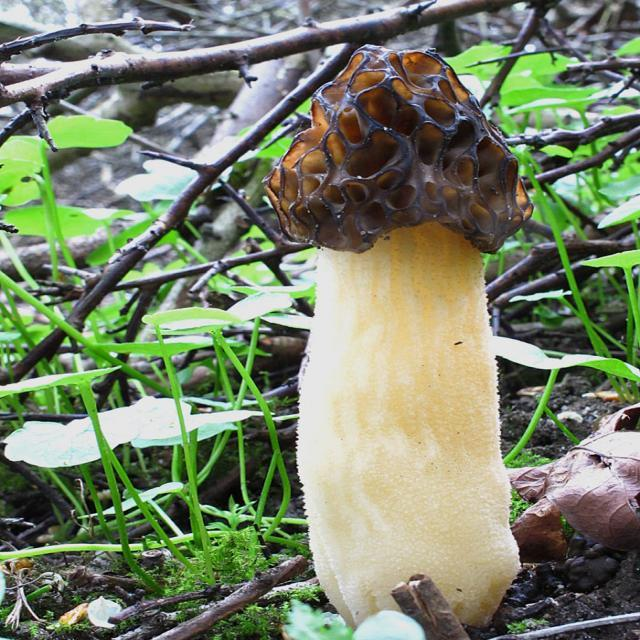Morchella esculenta: (271, 48, 532, 620)
